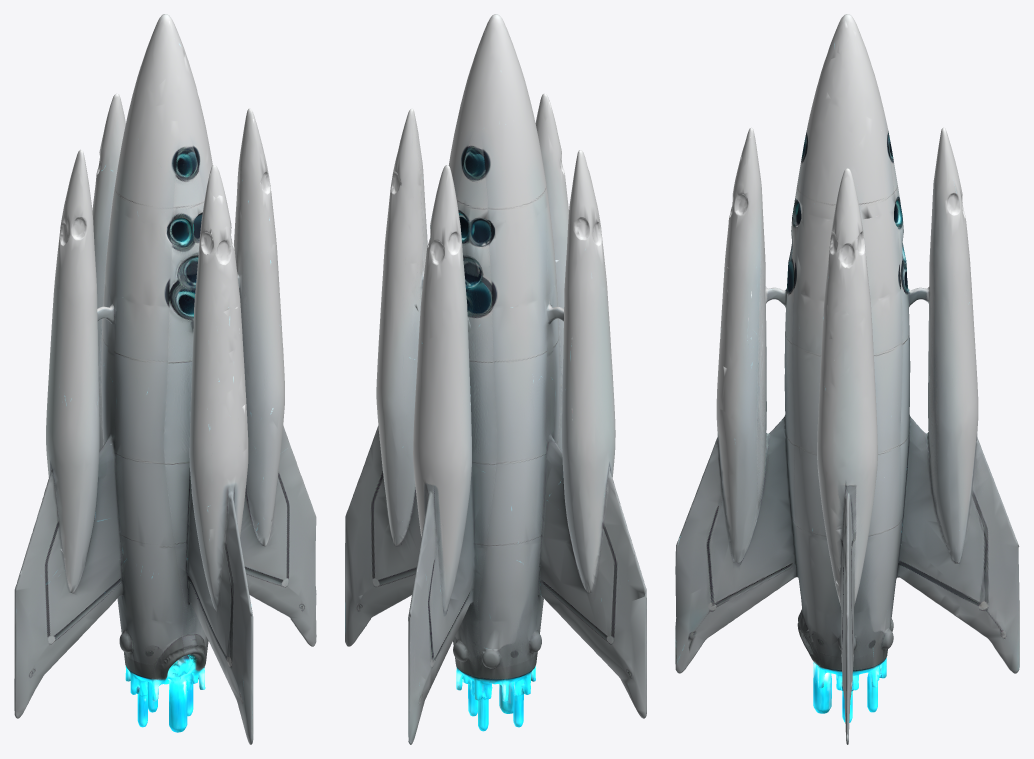
File: ship-rocket.glb
3 renders of one model, left to right at view 1: azimuth 30°, elevation 25°; view 2: azimuth 150°, elevation 25°; view 3: azimuth 270°, elevation 25°, orthographic.
Bounding box in the file's own units: 0.8548 × 1.91 × 0.8551.
1 material, 1 textured.
